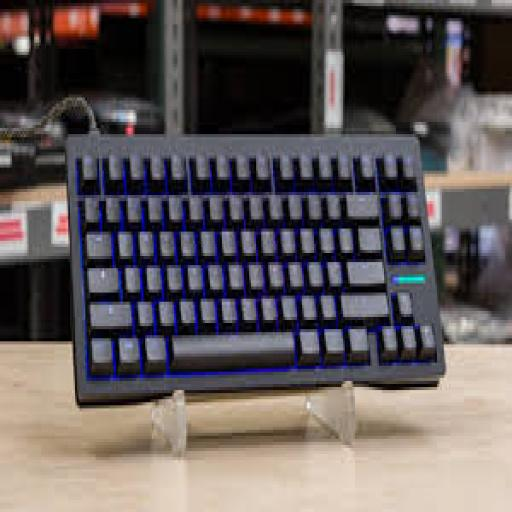keyboard: (68, 137, 444, 402)
